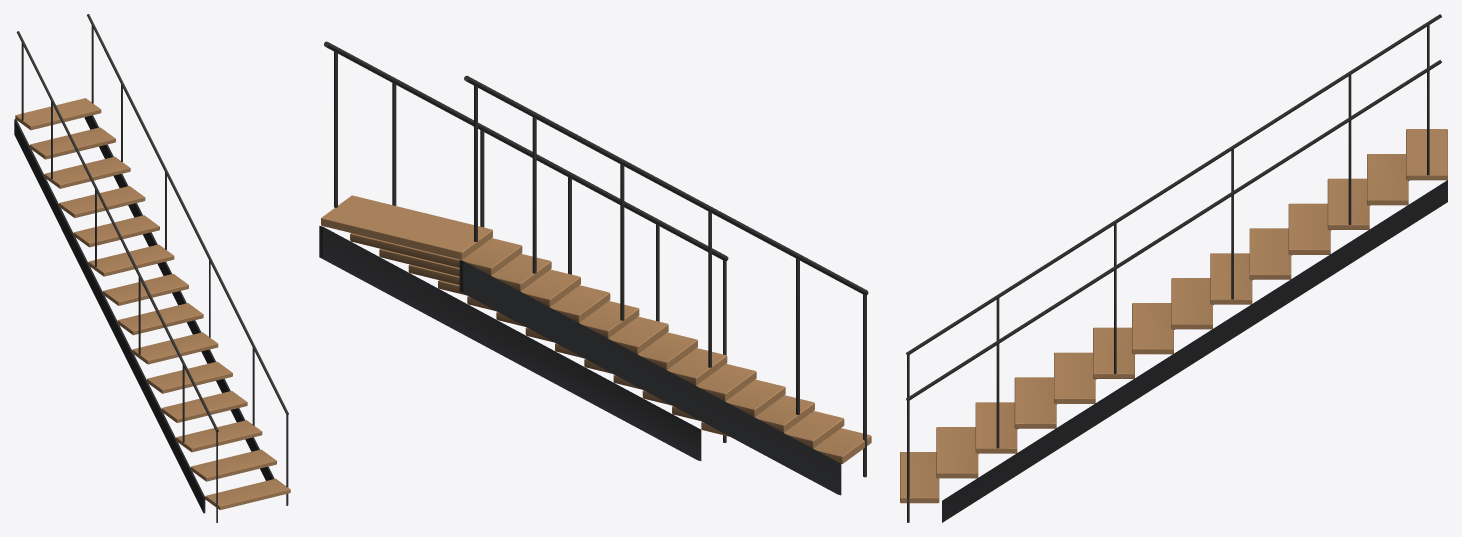
File: stairsOpen.glb
3 views of the same model, side by side, from view 1: azimuth 30°, elevation 25°; view 2: azimuth 150°, elevation 25°; view 3: azimuth 270°, elevation 25° (orthographic). The views are drawn at different scales.
Parts seen in each view (by area): view 1: stairsOpen; view 2: stairsOpen; view 3: stairsOpen.
Part boxes in pixels (bbox=[...]): stairsOpen: bbox=[14, 14, 290, 522]; stairsOpen: bbox=[319, 41, 871, 495]; stairsOpen: bbox=[900, 14, 1447, 522].
Size of the model in its own units: 0.818 by 3.73 by 4.
